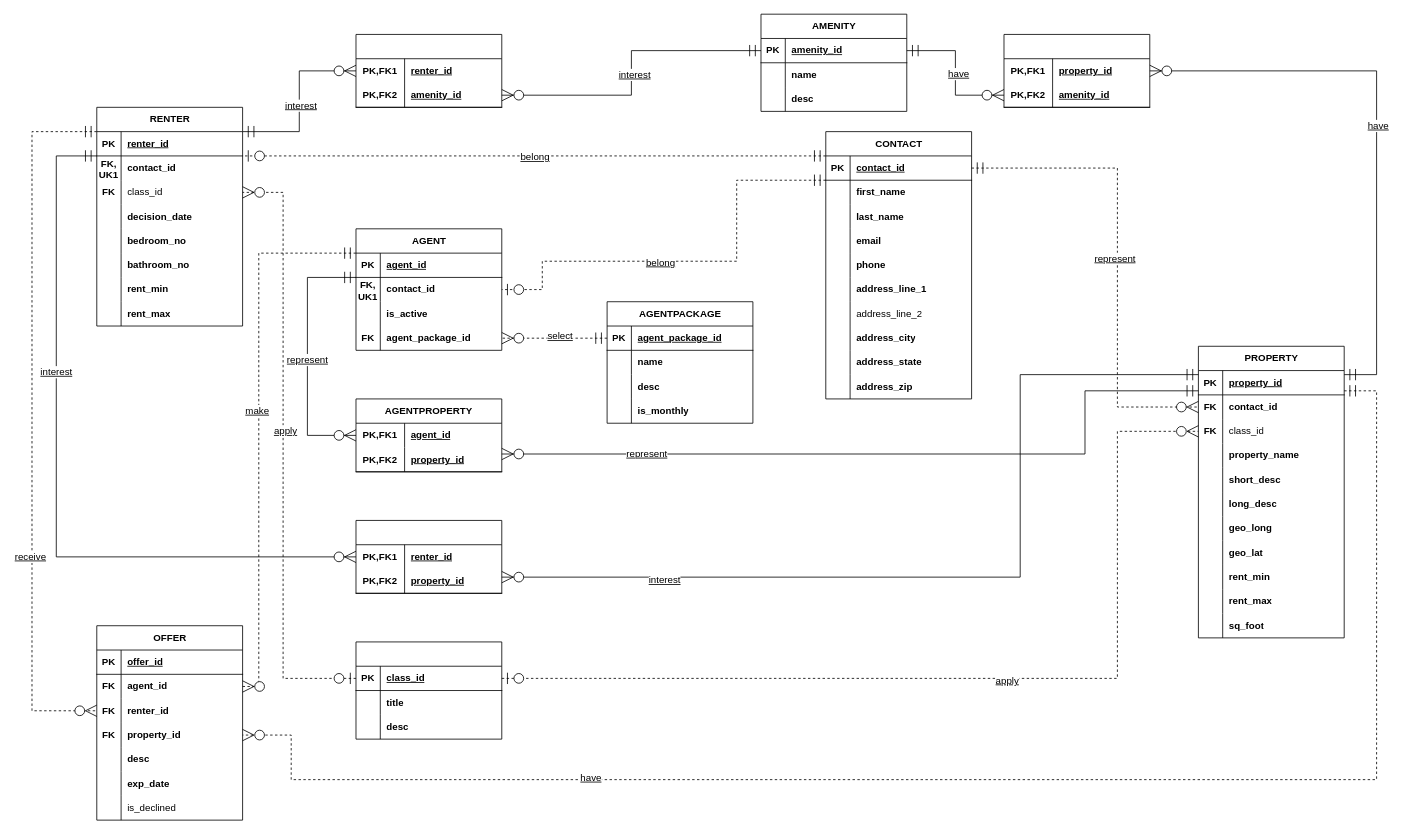
The diagram is 1403 pixels wide and 834 high, and some of its shapes have lost their labels. Here are the shapes that lost their labels. From the top down, the box of each, then its label:
(355, 34, 502, 107): RENTERAMENITY
(1003, 34, 1150, 107): PROPERTYAMENITY
(355, 520, 502, 593): RENTERPROPERTY
(355, 641, 502, 739): CLASSIFICATION
